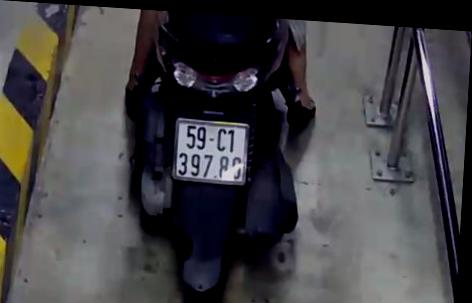License_Plate: (168, 114, 256, 194)
